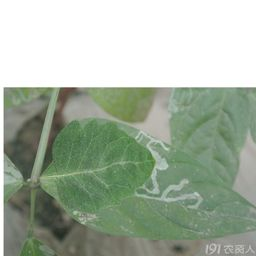liriomyza: (133, 131, 204, 210)
